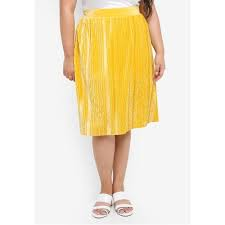C_skirt: (68, 7, 168, 142)
